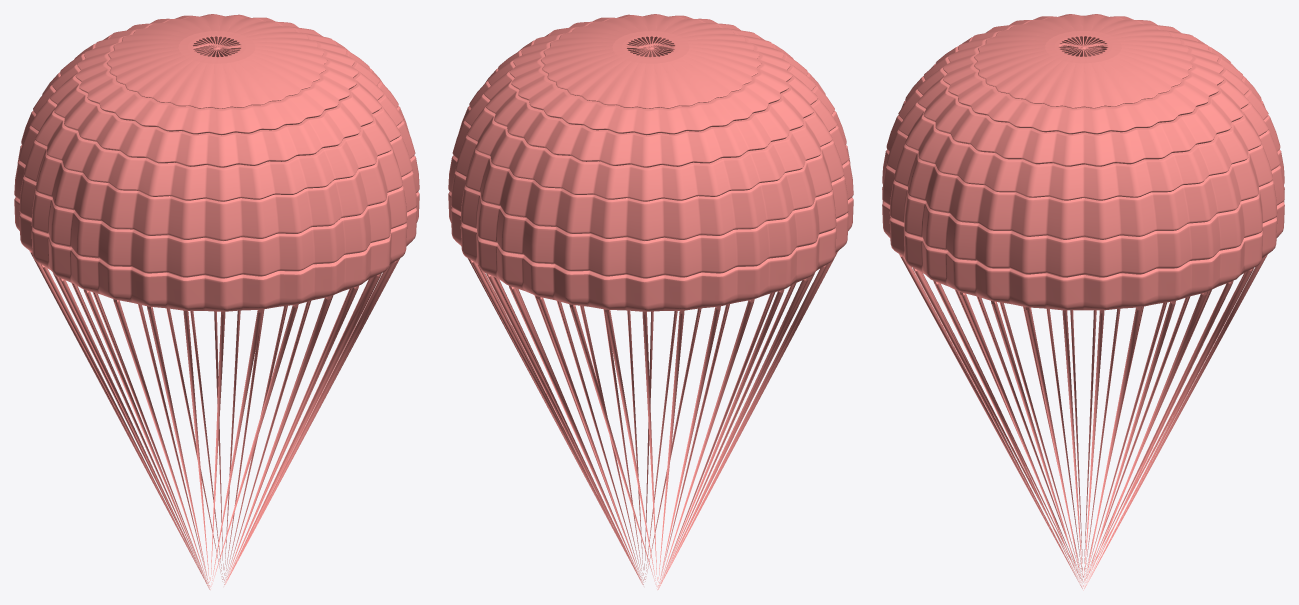
Rendered from Paracaidasdefi.fbx.
3 views of the same model, side by side, from view 1: azimuth 30°, elevation 25°; view 2: azimuth 150°, elevation 25°; view 3: azimuth 270°, elevation 25° (orthographic).
Parts seen in each view (by area): view 1: pSphere1; view 2: pSphere1; view 3: pSphere1.
Part boxes in pixels (x1,y1,x2,y2): pSphere1: (14,14,419,589); pSphere1: (448,14,853,589); pSphere1: (882,14,1284,590).
Bounding box in the file's own units: 135 × 200 × 135.
